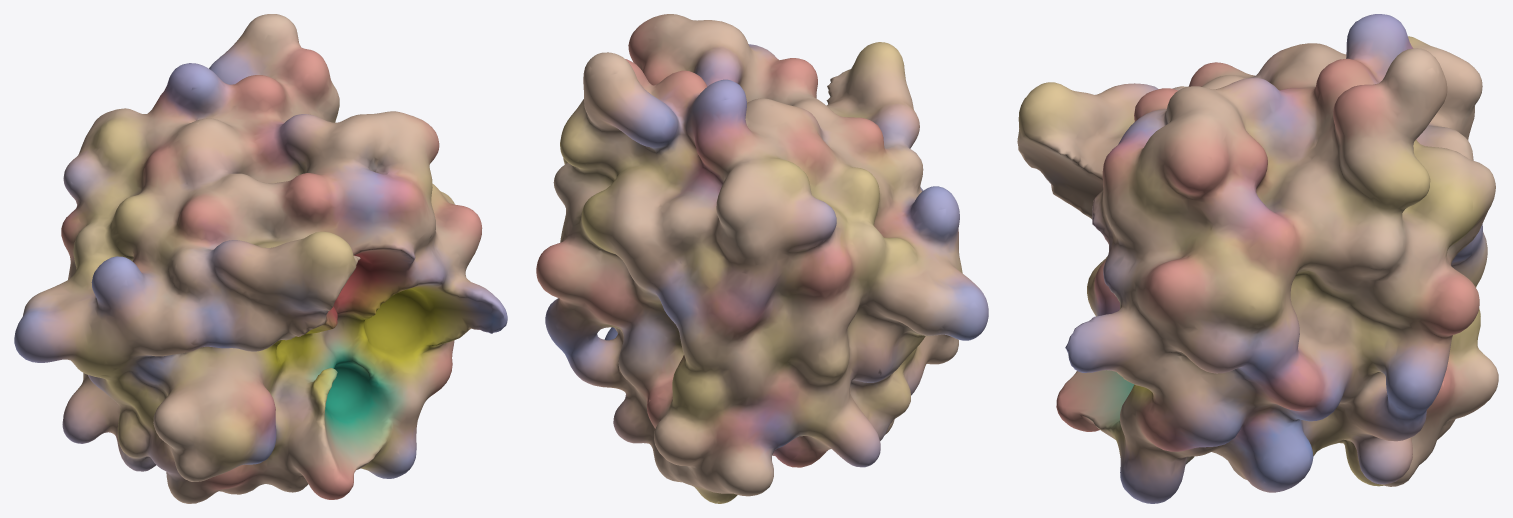
The model's file is trombina_exp.glb.
3 renders of one model, left to right at view 1: azimuth 30°, elevation 25°; view 2: azimuth 150°, elevation 25°; view 3: azimuth 270°, elevation 25°, orthographic. The views are drawn at different scales.
Parts seen in each view (by area): view 1: geometry_0; view 2: geometry_0; view 3: geometry_0.
Boxes of the visible parts, x1,y1,x2,y2 form: geometry_0: [14, 14, 507, 503]; geometry_0: [536, 14, 988, 503]; geometry_0: [1017, 14, 1498, 503].
Size of the model in its own units: 0.5235 by 0.4957 by 0.4474.
